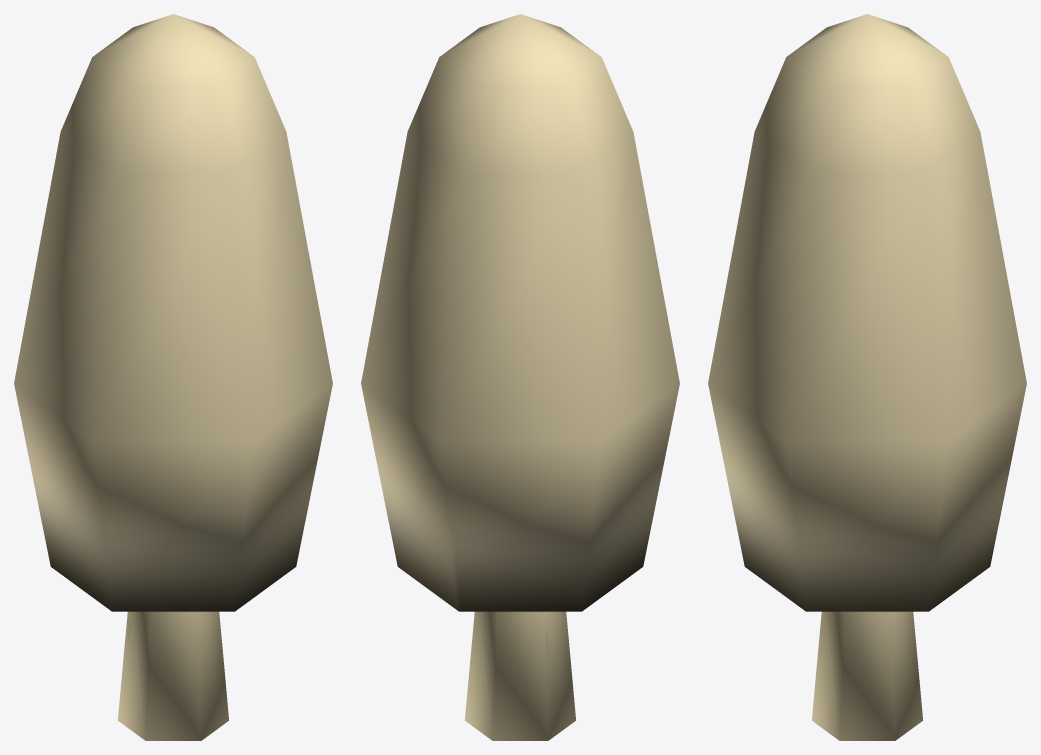
File: inkcap.glb
3 views of the same model, side by side, from view 1: azimuth 30°, elevation 25°; view 2: azimuth 150°, elevation 25°; view 3: azimuth 270°, elevation 25° (orthographic).
Parts seen in each view (by area): view 1: inkcap; view 2: inkcap; view 3: inkcap.
Part boxes in pixels (left/top/right/bottom): inkcap: left=14, top=14, right=332, bottom=740; inkcap: left=361, top=14, right=679, bottom=740; inkcap: left=708, top=14, right=1026, bottom=740.
Size of the model in its own units: 0.4101 by 1.16 by 0.4735.
1 material, 1 textured.
